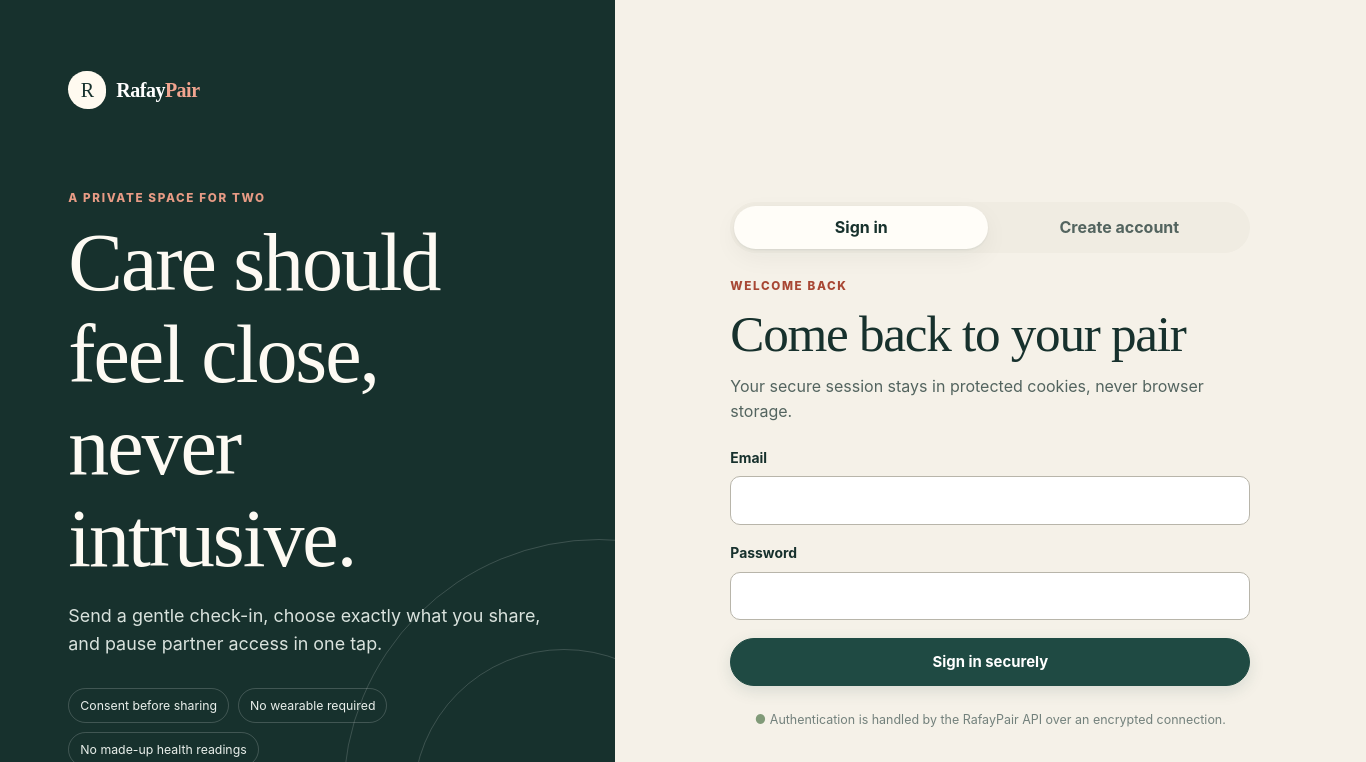
Scenario: accessible entry experience › provides a keyboard-operable registration form with explicit labels
The image size is (1366, 762).
Click the button "Create account" at (1119, 227), box [992,206,1246,249]
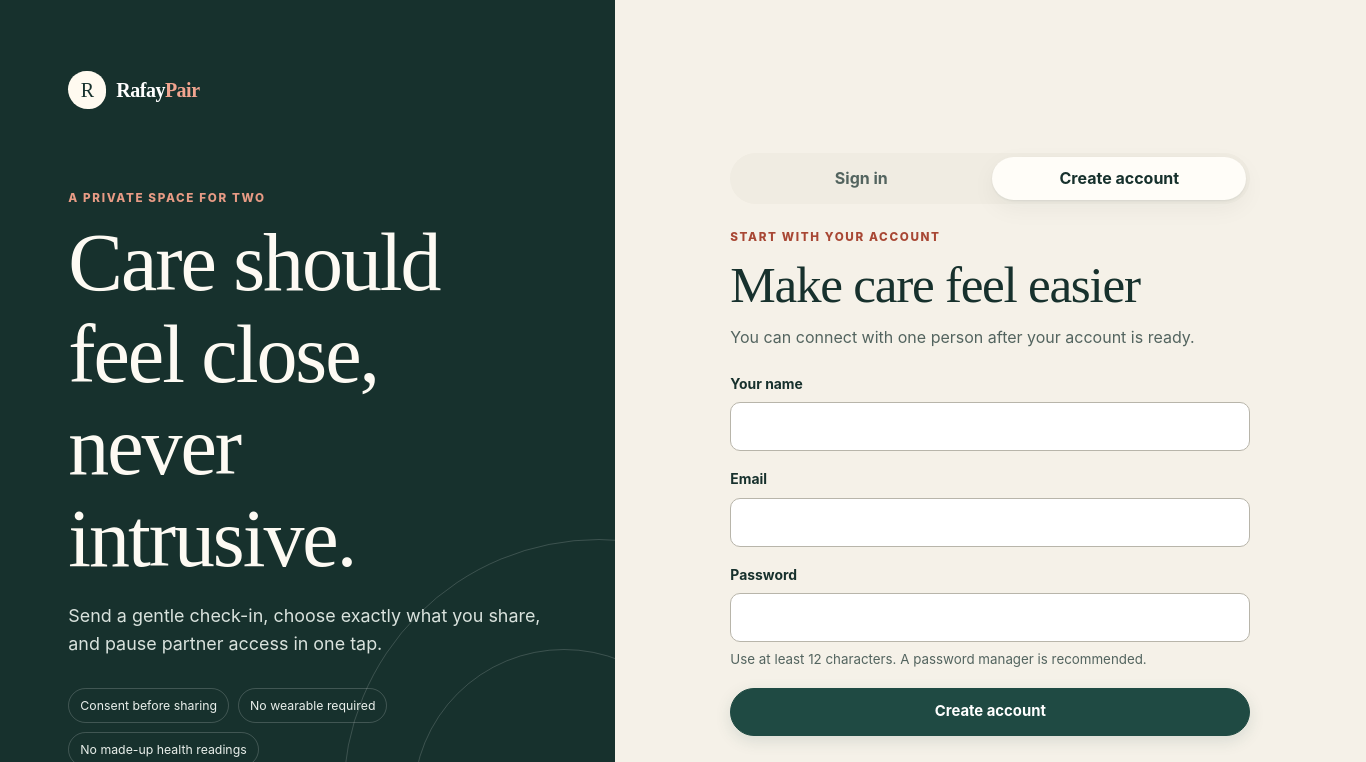
Result: the field labelled "Your name" is shown at [730,402,1250,451]
